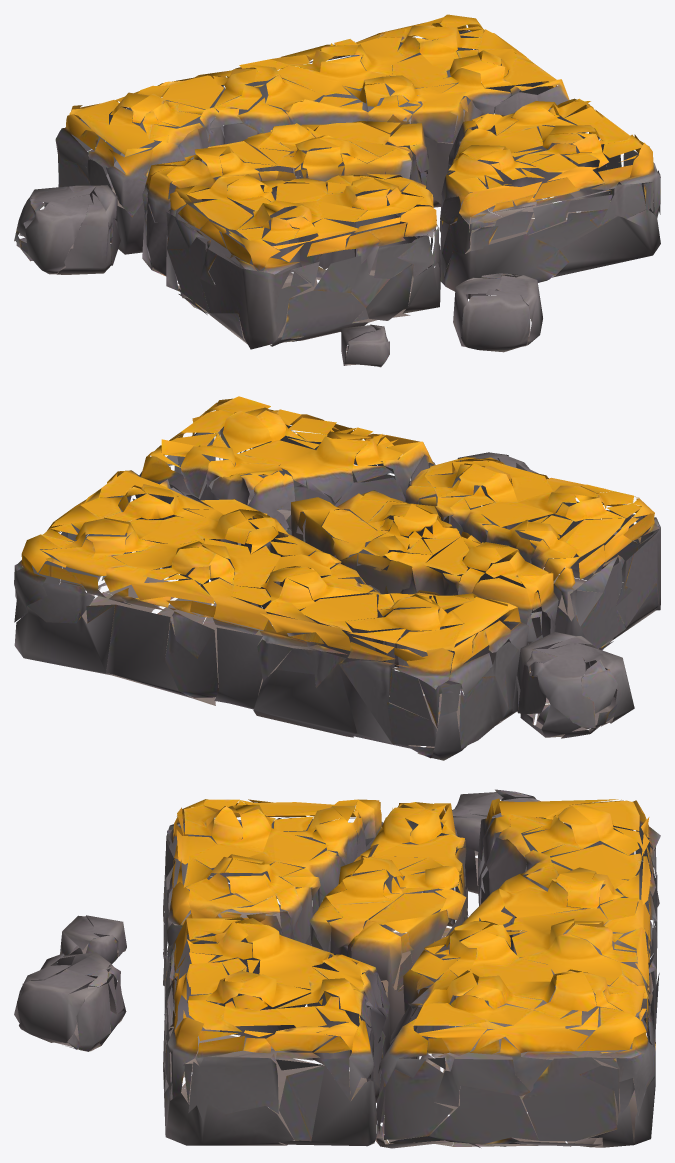
Rendered from tactile-broken.glb.
3 renders of one model, top to bottom at view 1: azimuth 30°, elevation 25°; view 2: azimuth 150°, elevation 25°; view 3: azimuth 270°, elevation 25°, orthographic. The views are drawn at different scales.
Parts seen in each view (by area): view 1: Mesh_0; view 2: Mesh_0; view 3: Mesh_0.
Part boxes in pixels (x1,y1,x2,y2): Mesh_0: (14, 14, 660, 367); Mesh_0: (14, 396, 660, 760); Mesh_0: (14, 789, 660, 1148).
Size of the model in its own units: 1.92 by 0.419 by 1.77.
Materials: 1 (1 with a texture image).
